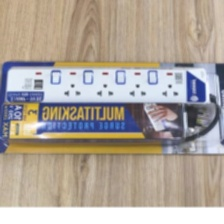book: (0, 60, 224, 156)
three_eye_plug: (3, 65, 213, 108)
